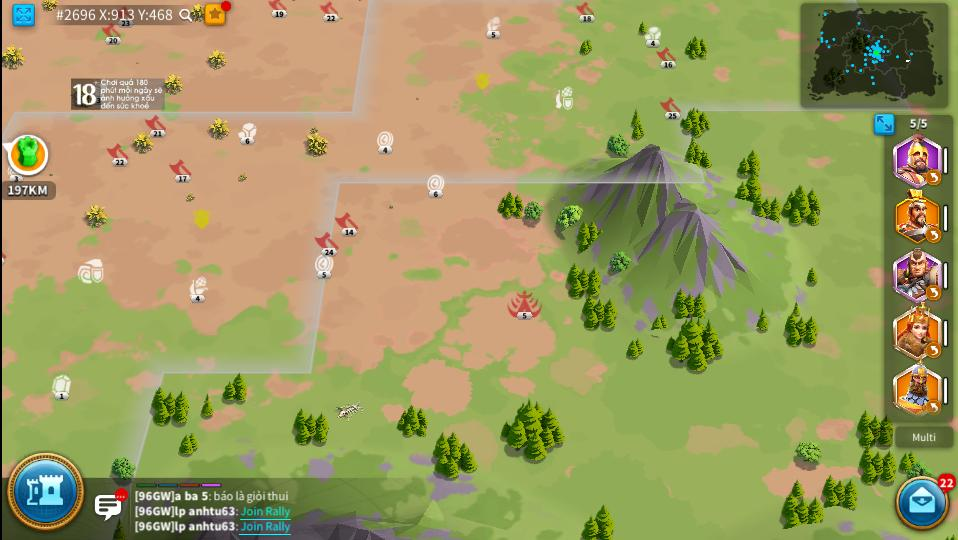gem-z-out: (49, 375, 72, 402)
march_returning: (925, 228, 942, 242), (926, 170, 940, 185), (928, 400, 940, 417), (926, 285, 940, 299), (928, 343, 940, 357)
